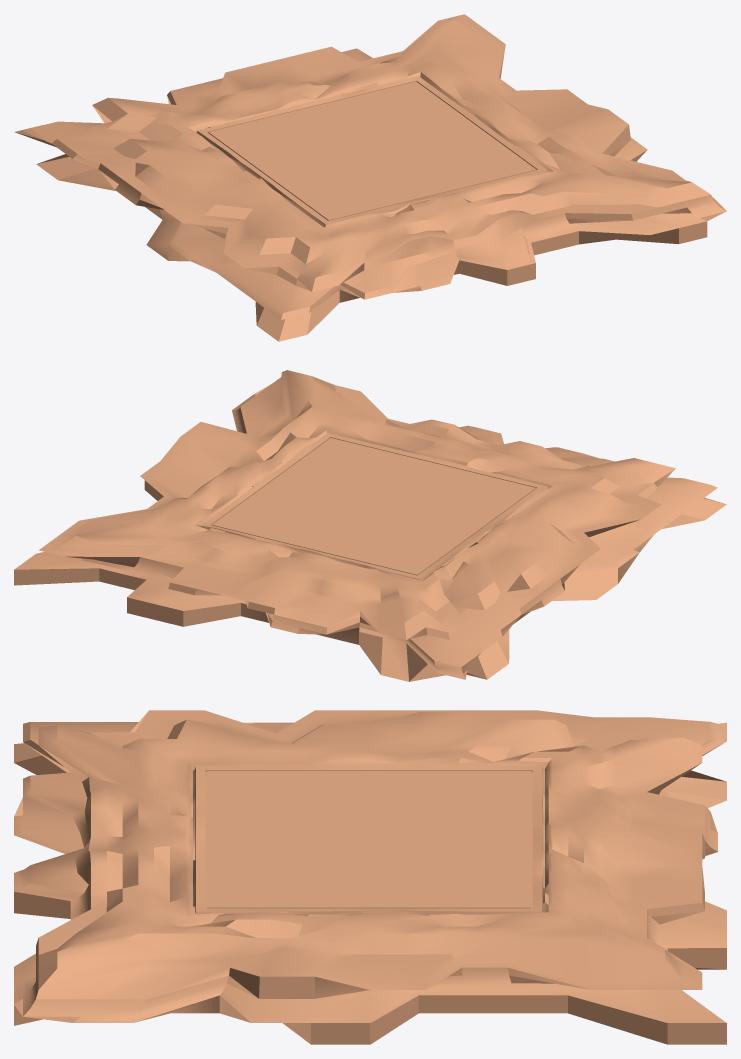
The model's file is Tablero.fbx.
3 renders of one model, top to bottom at view 1: azimuth 30°, elevation 25°; view 2: azimuth 150°, elevation 25°; view 3: azimuth 270°, elevation 25°, orthographic. The views are drawn at different scales.
Visible parts, largest first — view 1: Tablero.001; view 2: Tablero.001; view 3: Tablero.001.
Part boxes in pixels (box(x1,y1,x2,y2)): Tablero.001: box(14, 14, 726, 341); Tablero.001: box(14, 370, 726, 681); Tablero.001: box(14, 710, 726, 1044).
Bounding box in the file's own units: 3108 × 283 × 3116.
